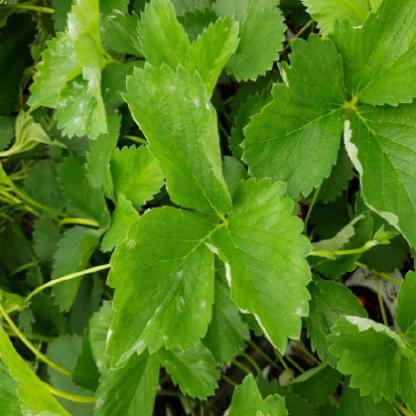Strawberry_Powdery_Mildew_Leaf: (203, 176, 314, 358), (102, 206, 220, 370), (118, 60, 233, 216), (23, 0, 113, 141), (344, 97, 416, 269), (326, 314, 404, 405), (94, 348, 162, 415)
